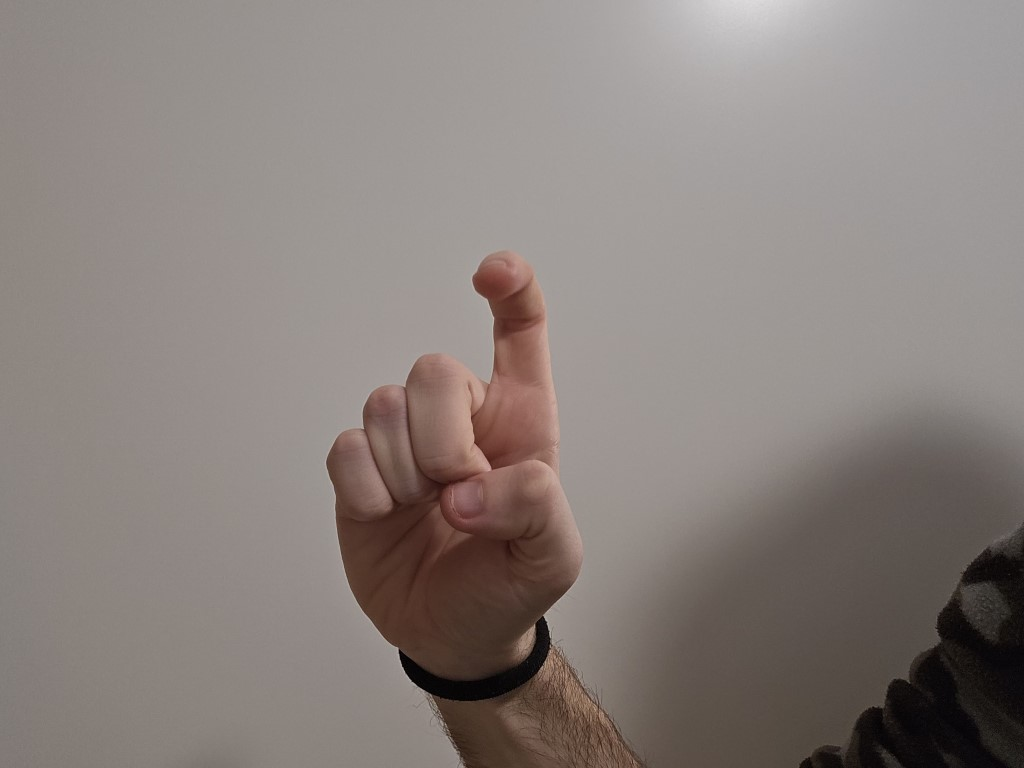x: (298, 234, 608, 639)
